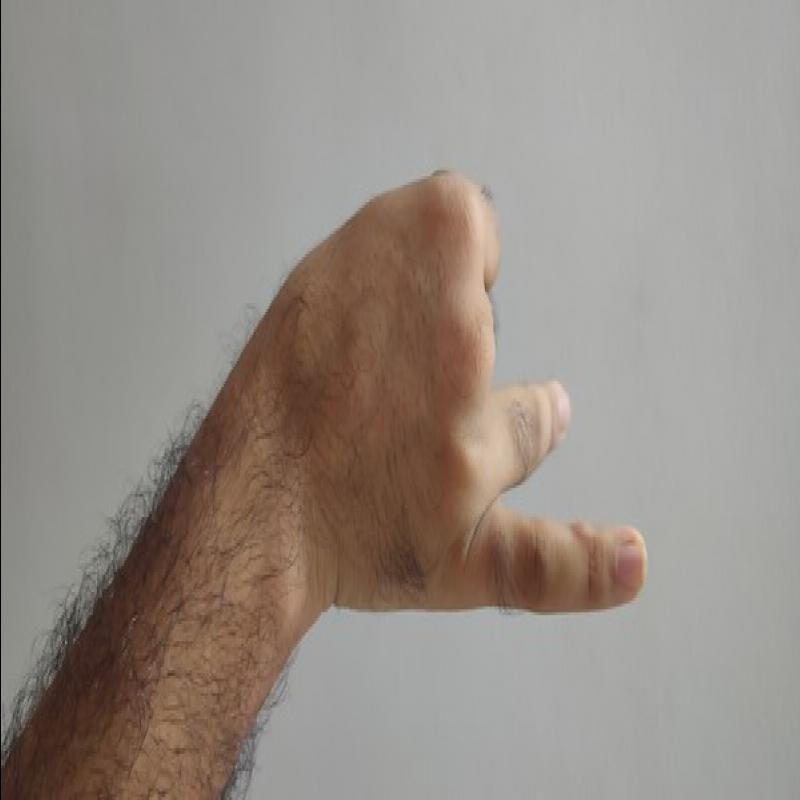Katakam: (271, 140, 663, 632)
